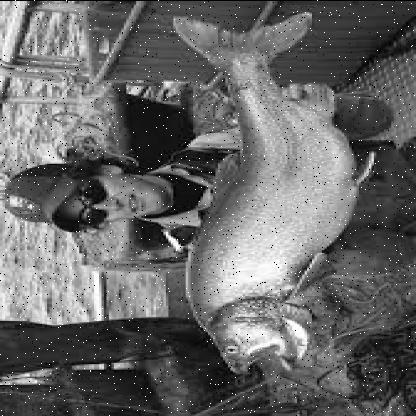fish: (167, 12, 370, 378)
